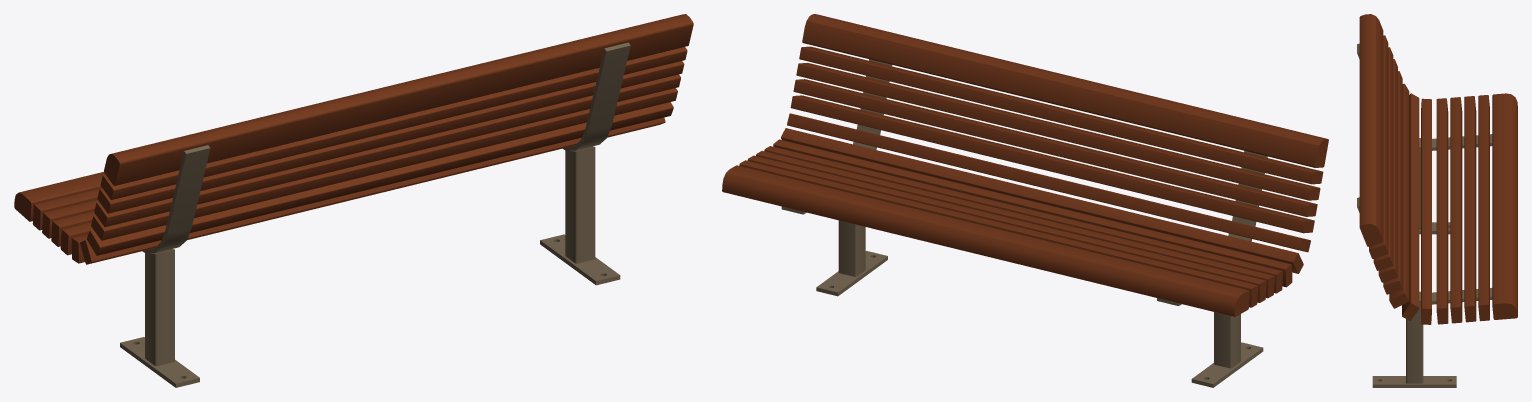
3 views of the same model, side by side, from view 1: azimuth 30°, elevation 25°; view 2: azimuth 150°, elevation 25°; view 3: azimuth 270°, elevation 25° (orthographic). The views are drawn at different scales.
Parts seen in each view (by area): view 1: mesh11_mesh11-geometry, mesh9_mesh9-geometry, mesh2_mesh2-geometry, mesh1_mesh1-geometry, mesh3_mesh3-geometry; view 2: mesh11_mesh11-geometry, mesh9_mesh9-geometry, mesh2_mesh2-geometry, mesh3_mesh3-geometry, mesh1_mesh1-geometry; view 3: mesh11_mesh11-geometry, mesh9_mesh9-geometry, mesh2_mesh2-geometry, mesh3_mesh3-geometry, mesh1_mesh1-geometry.
Boxes of the visible parts, x1,y1,x2,y2 form: mesh11_mesh11-geometry: (32,47,687,264); mesh9_mesh9-geometry: (14,14,693,221); mesh2_mesh2-geometry: (145,146,595,365); mesh1_mesh1-geometry: (142,42,630,253); mesh3_mesh3-geometry: (120,234,620,387); mesh11_mesh11-geometry: (739,46,1323,307); mesh9_mesh9-geometry: (722,14,1328,316); mesh2_mesh2-geometry: (838,220,1240,368); mesh3_mesh3-geometry: (816,251,1263,387); mesh1_mesh1-geometry: (781,59,1267,305); mesh11_mesh11-geometry: (1369,35,1489,324); mesh9_mesh9-geometry: (1359,14,1517,319); mesh2_mesh2-geometry: (1406,150,1423,383); mesh3_mesh3-geometry: (1372,222,1456,387); mesh1_mesh1-geometry: (1357,43,1492,304).
Bounding box in the file's own units: 0.8842 × 0.3689 × 0.2865.
